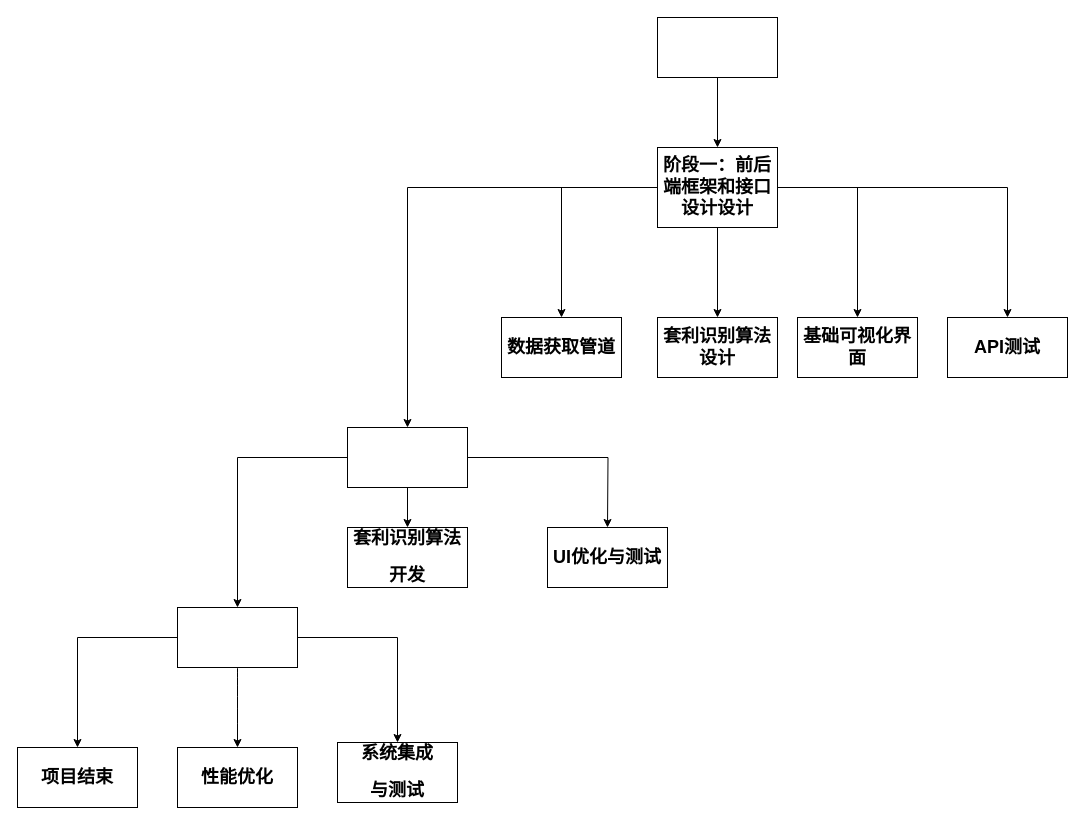
Image size: 1085x834. Some labels were removed from this diagram. The shapes that lost their labels are listed below. From the top down, each one's box as (x1, y1, x2, y2) in pixels, then its label:
(656, 16, 778, 78): 项目启动
(346, 426, 468, 488): 阶段二：MVP 中期展示
(176, 606, 298, 668): 阶段三：V1.0 终期展示
